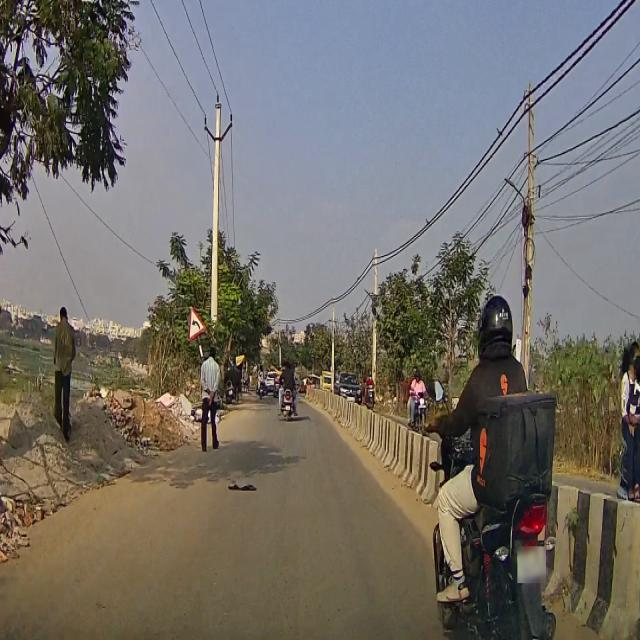motorcycle ahead at: (428, 476, 557, 640), (277, 358, 299, 425)
person ahead at: (49, 304, 80, 438), (199, 343, 223, 450)
sign board ahead at: (183, 307, 205, 343)
